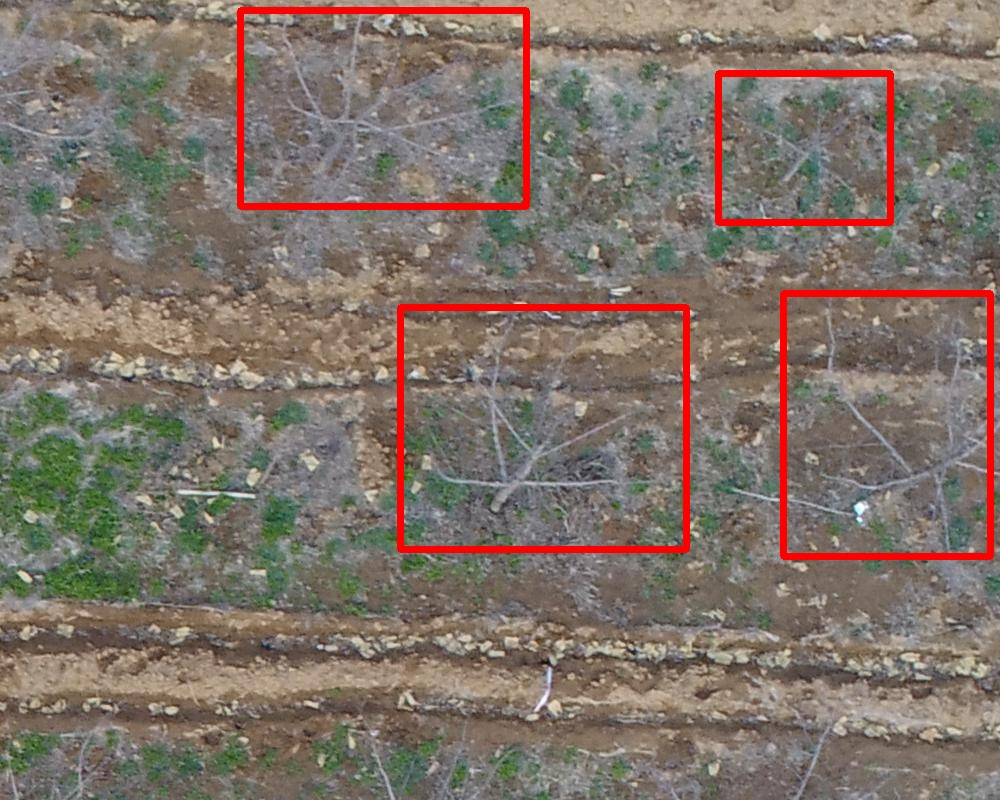apple: (400, 307, 686, 549), (240, 10, 526, 206), (783, 293, 990, 556), (718, 73, 890, 222)
